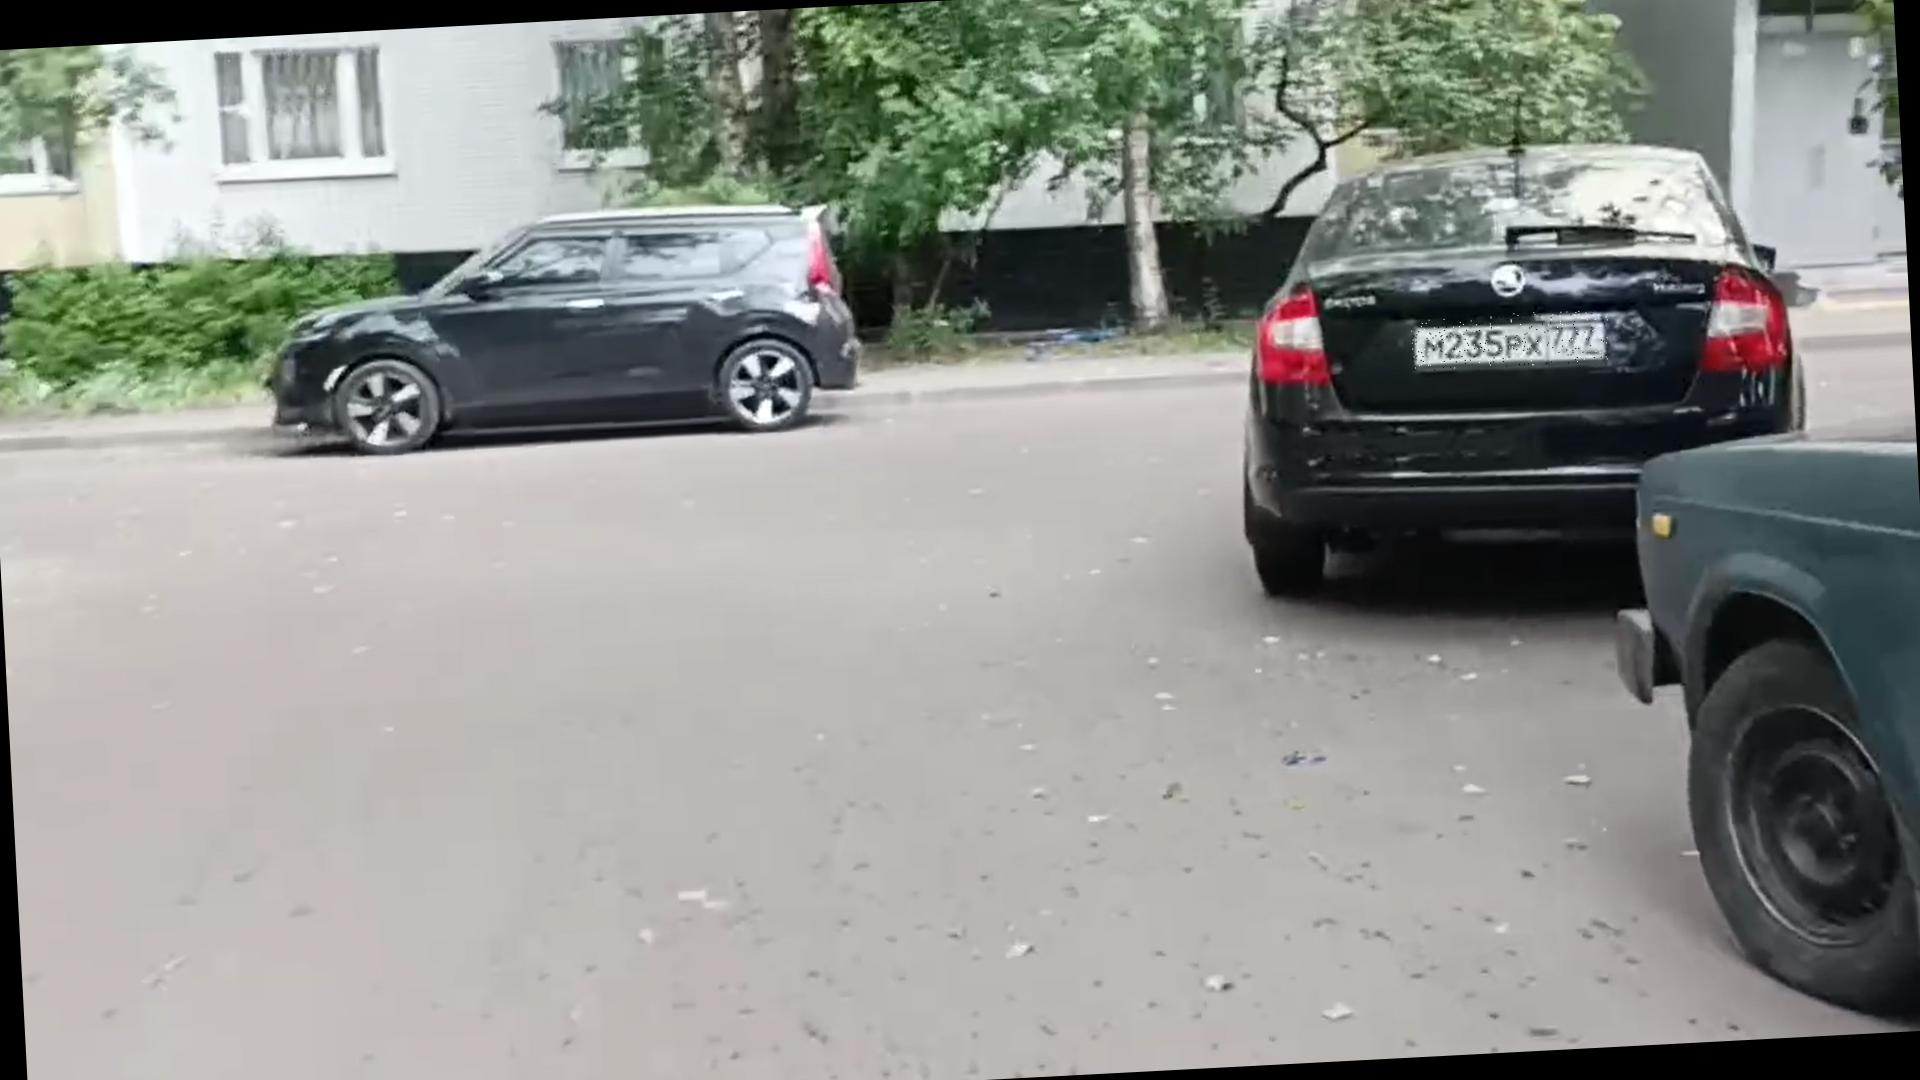plate: (1412, 309, 1611, 372)
